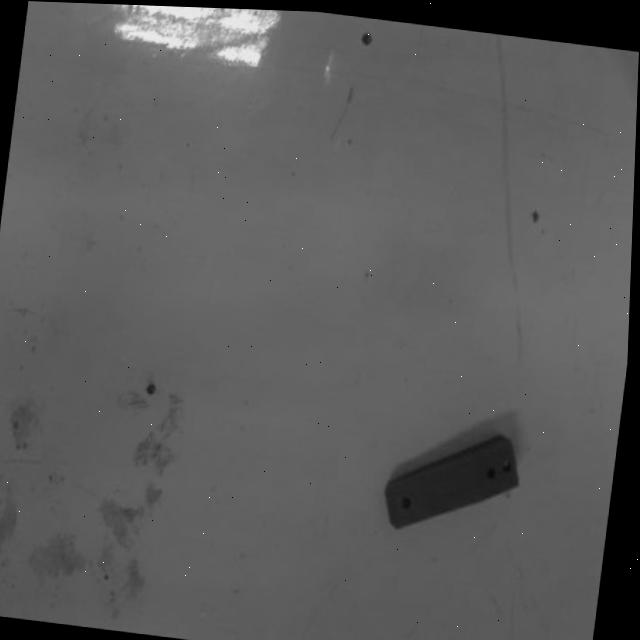grey: (381, 416, 524, 538)
head: (399, 494, 410, 510)
